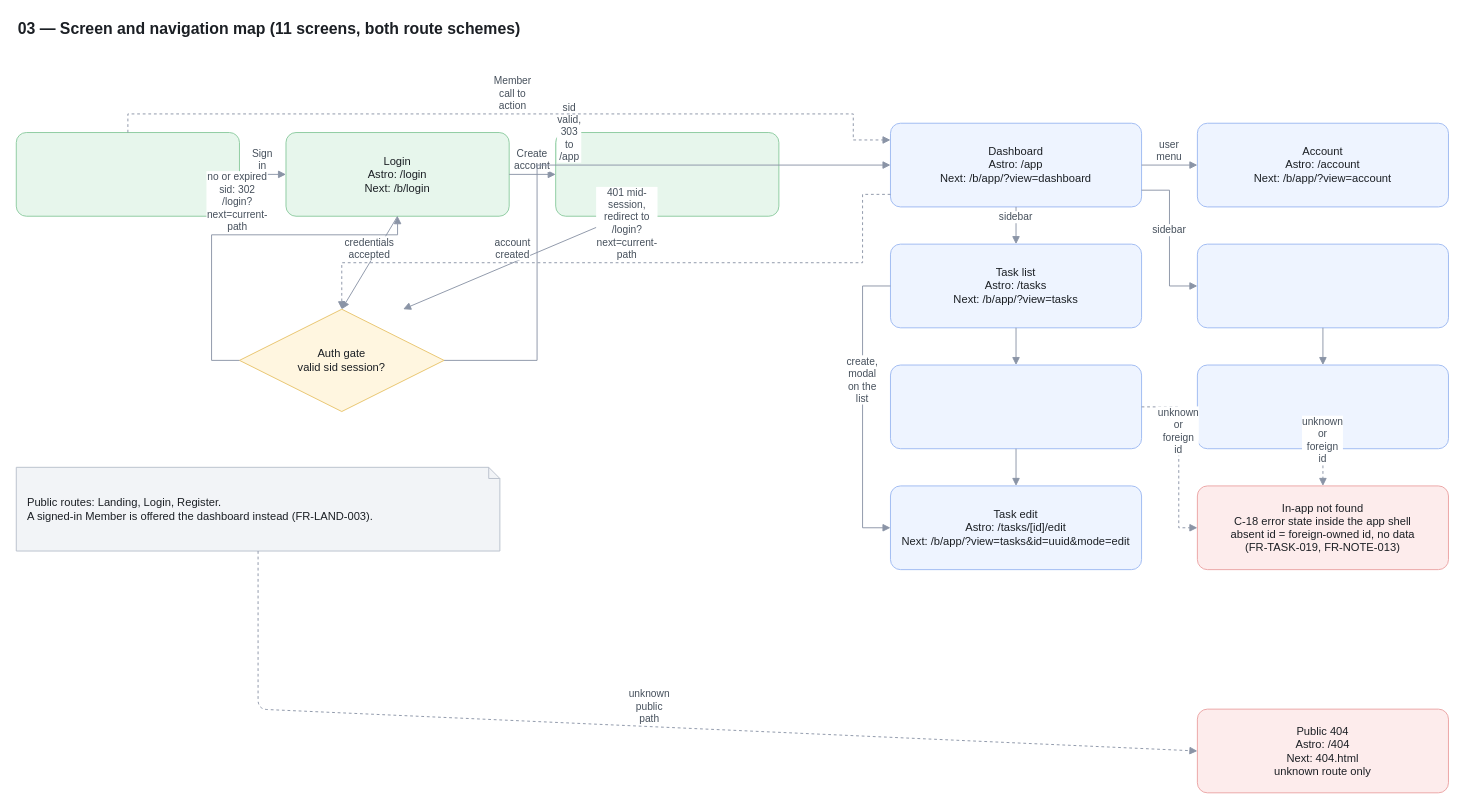
Image size: 1465x809. Some labels were removed from this diagram. The shapes that lost their labels are listed below. From the top down, each one's centre as x and y in pixels, then its label:
At (127,174): "Landing Astro: / Next: /b/".
At (667,174): "Register Astro: /register Next: /b/register".
At (1322,285): "Note list Astro: /notes Next: /b/app/?view=notes".
At (1016,406): "Task detail Astro: /tasks/[id] Next: /b/app/?view=tasks&id=uuid".
At (1322,406): "Note detail Astro: /notes/[id] Next: /b/app/?view=notes&id=uuid".
